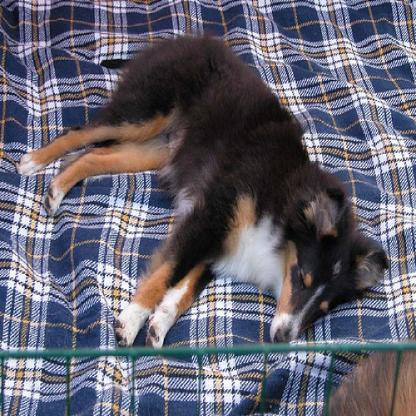Shetland_sheepdog: (18, 29, 388, 352)
